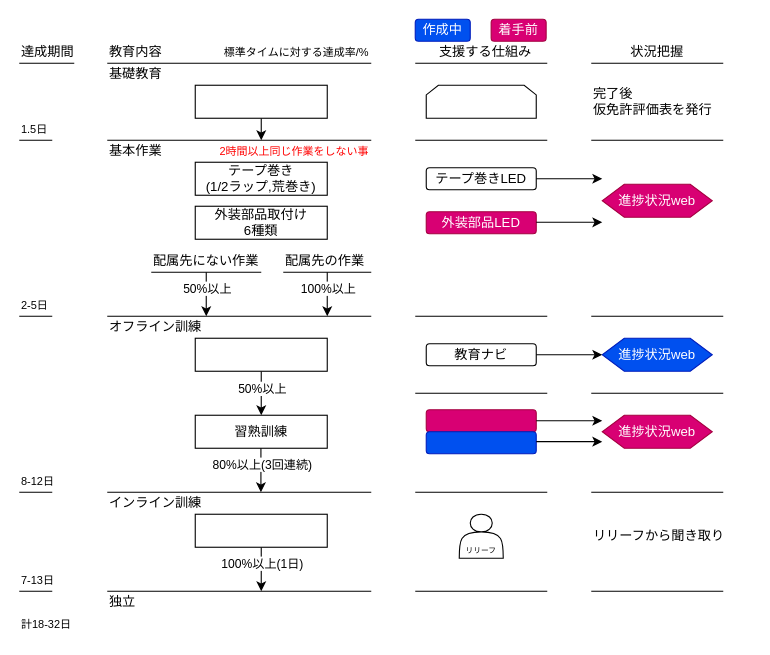
Image size: 770x655. Some labels were removed from this diagram. The centre of each missing label's shape, as x and y in pixels:
"トレーニング センター" belongs at (x=480, y=101).
"仮免許取得" belongs at (x=260, y=101).
"忘れん棒LED" belongs at (x=480, y=442).
"竿LED" belongs at (x=480, y=420).
"習得訓練" belongs at (x=260, y=354).
"配属先での実践 ※フォロー有り" belongs at (x=260, y=530).
